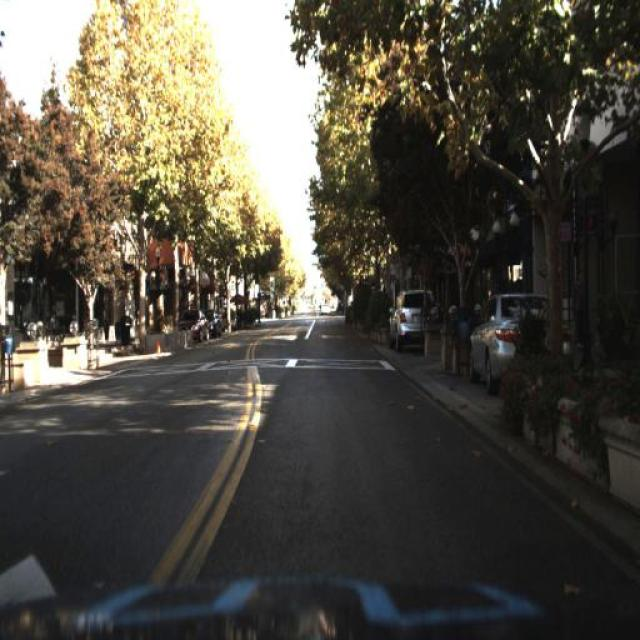car: (464, 289, 577, 397), (387, 282, 439, 354), (168, 306, 208, 346), (206, 308, 228, 343)
